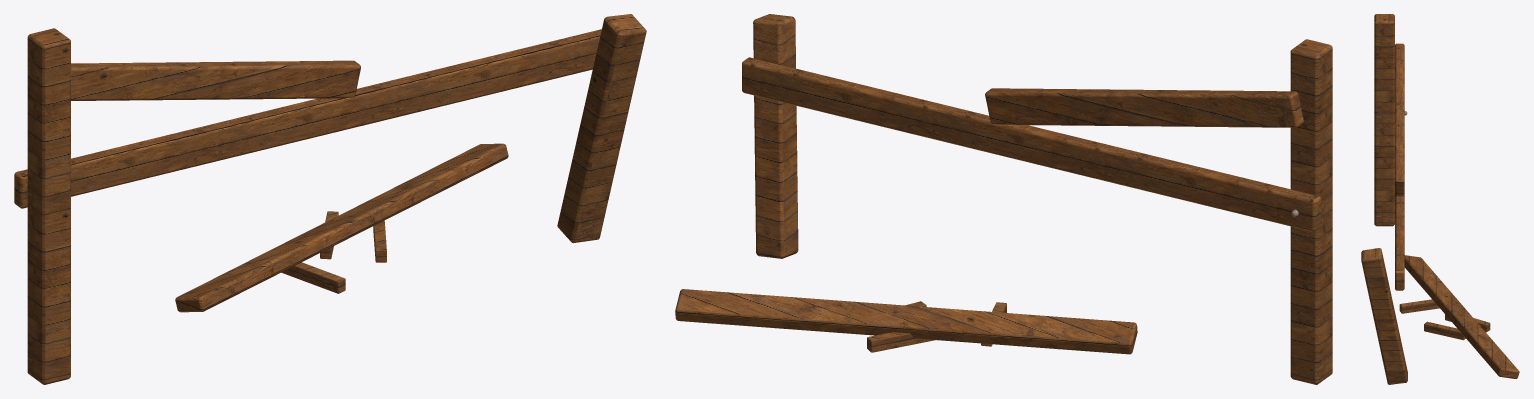
Rendered from broken-fence-v01.glb.
3 views of the same model, side by side, from view 1: azimuth 30°, elevation 25°; view 2: azimuth 150°, elevation 25°; view 3: azimuth 270°, elevation 25° (orthographic). The views are drawn at different scales.
Parts seen in each view (by area): view 1: broken-fence; view 2: broken-fence; view 3: broken-fence.
Part boxes in pixels (x1=…): broken-fence: x1=14, y1=14, x2=646, y2=384; broken-fence: x1=675, y1=14, x2=1332, y2=384; broken-fence: x1=1361, y1=14, x2=1519, y2=384.
Size of the model in its own units: 3.04 by 1.65 by 1.15.
Materials: 2 (2 with a texture image).
